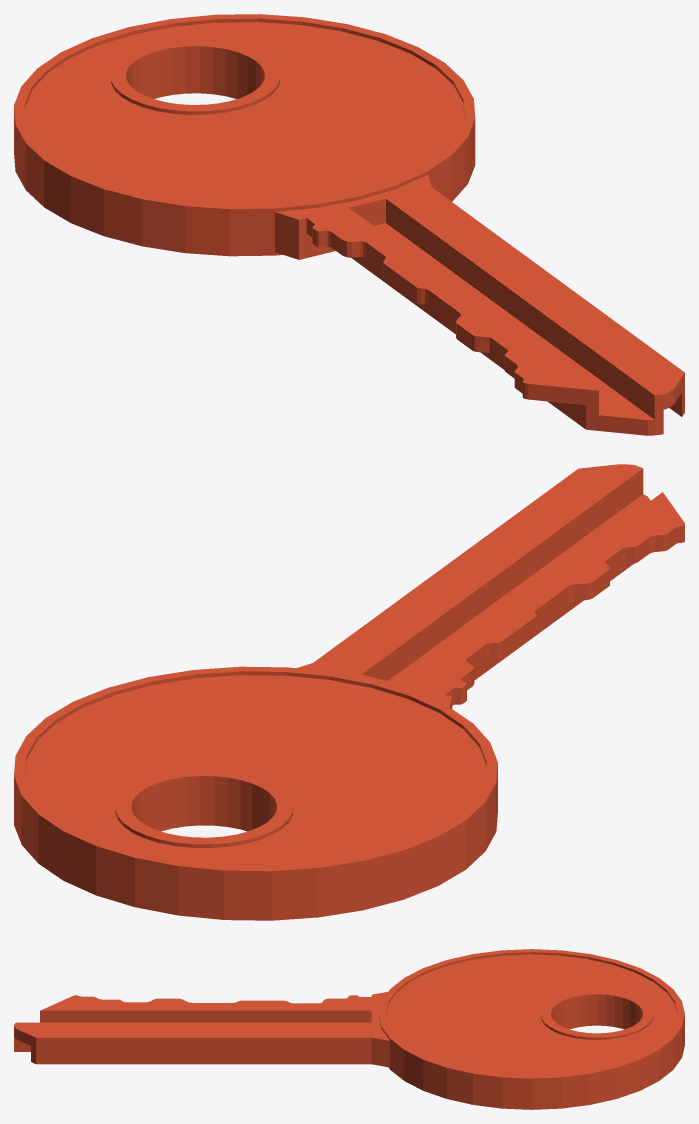
Rendered from key.fbx.
3 renders of one model, top to bottom at view 1: azimuth 30°, elevation 25°; view 2: azimuth 150°, elevation 25°; view 3: azimuth 270°, elevation 25°, orthographic. The views are drawn at different scales.
Parts seen in each view (by area): view 1: Key Body, Key Body.001; view 2: Key Body, Key Body.001; view 3: Key Body, Key Body.001.
Part boxes in pixels (x1=…): Key Body: x1=14, y1=14, x2=475, y2=259; Key Body.001: x1=299, y1=187, x2=684, y2=435; Key Body: x1=14, y1=663, x2=497, y2=920; Key Body.001: x1=313, y1=464, x2=684, y2=705; Key Body: x1=371, y1=949, x2=684, y2=1109; Key Body.001: x1=14, y1=995, x2=371, y2=1064.
Bounding box in the file's own units: 2.4 × 0.27 × 5.25.
